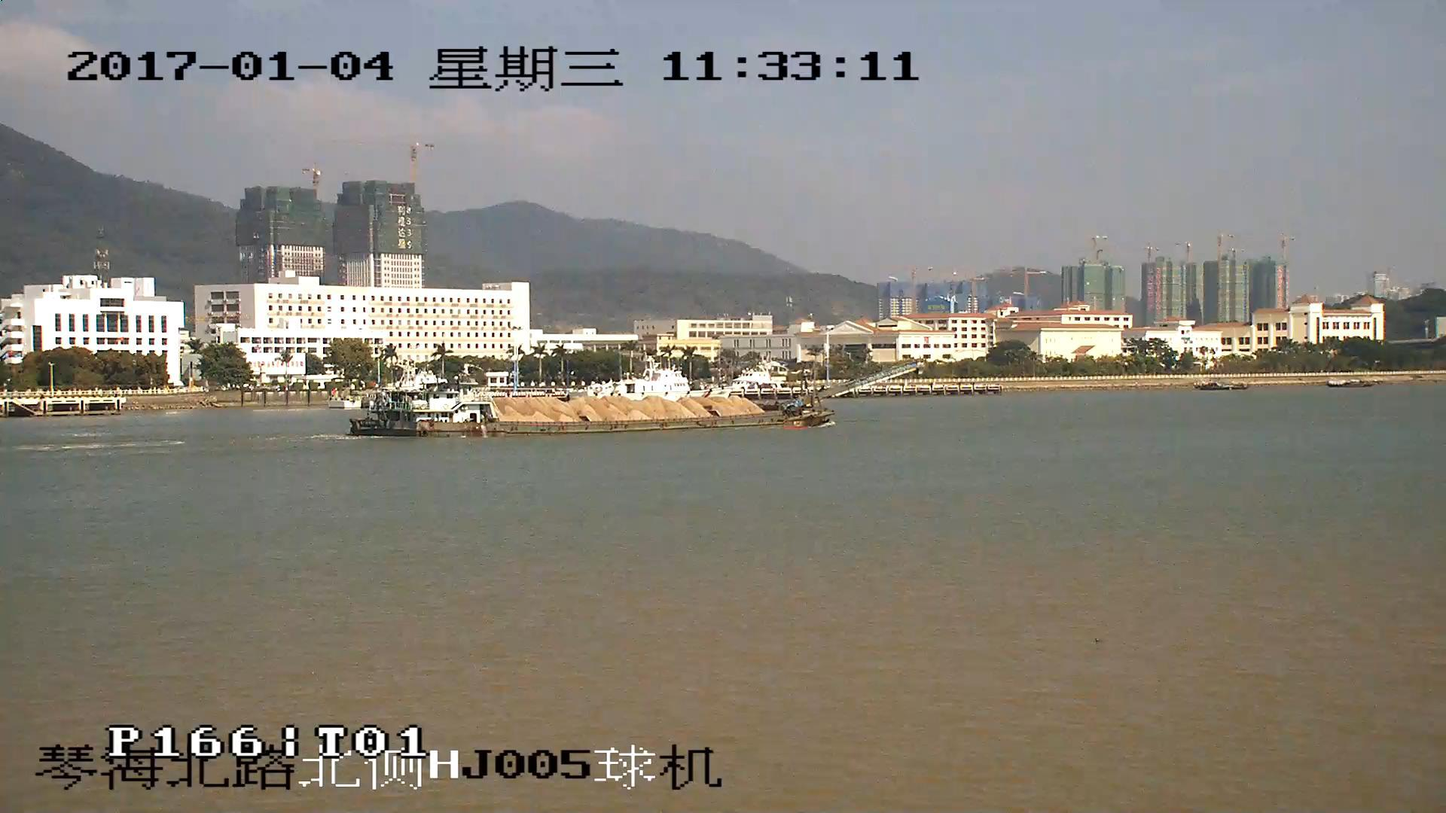ore carrier: (352, 361, 914, 437)
